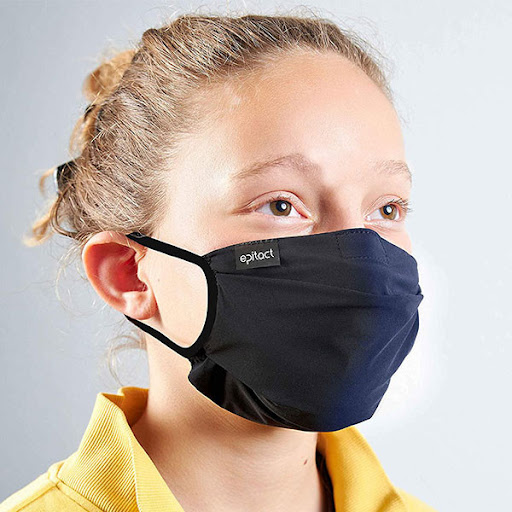with_mask: (163, 134, 408, 431)
